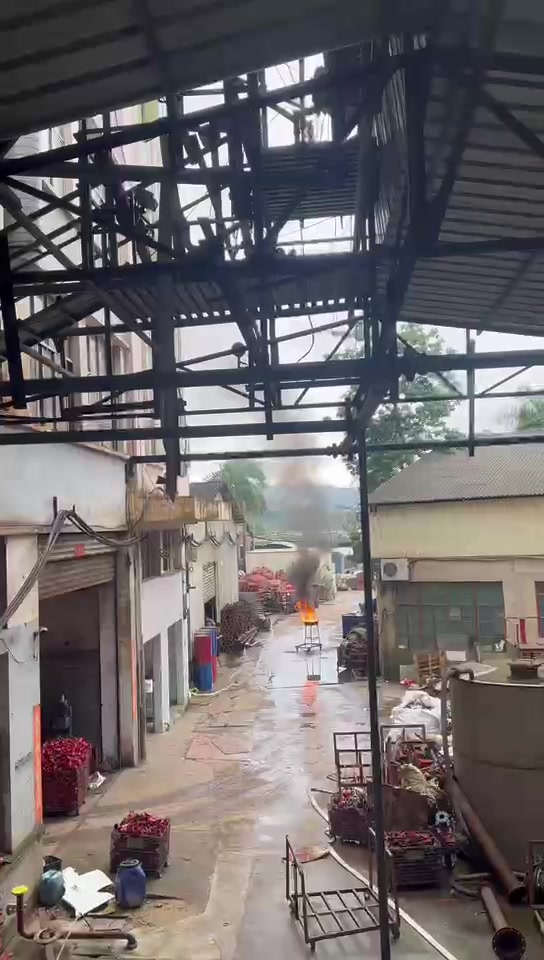fire: (299, 605, 317, 621)
